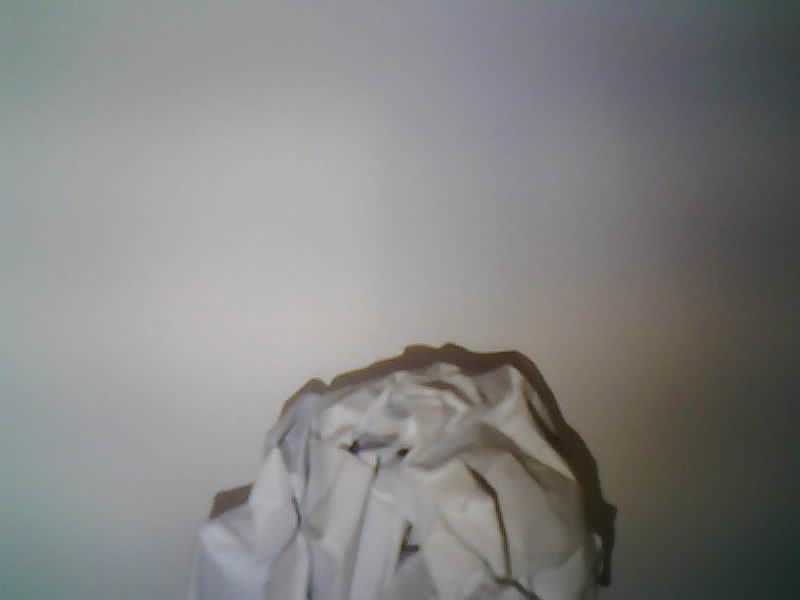biodegradable: (190, 347, 612, 599)
